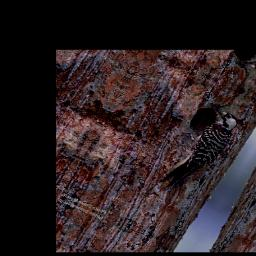Woodpecker: (159, 103, 244, 199)
